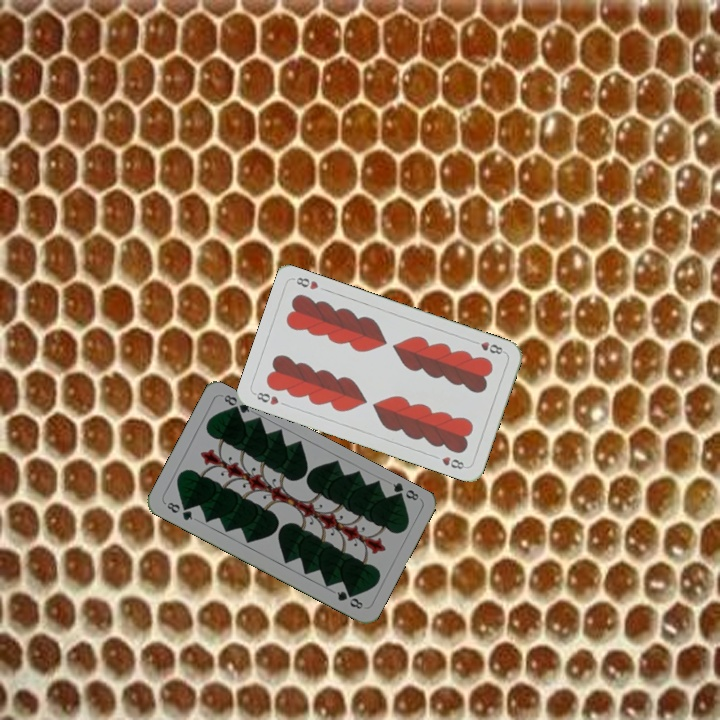G8: (389, 478, 421, 504), (163, 498, 195, 523)
H8: (468, 336, 508, 357), (251, 388, 281, 408)
